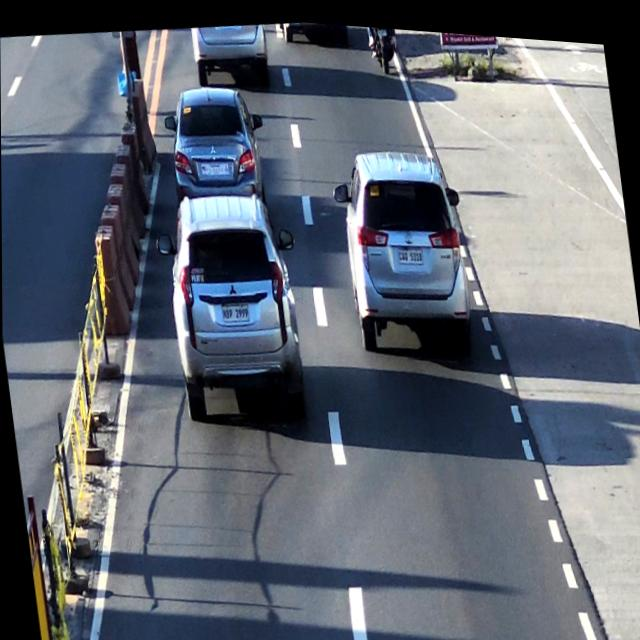Car: (160, 180, 310, 423), (336, 133, 484, 376), (161, 76, 269, 199), (191, 16, 271, 92)
License-Plate: (218, 297, 253, 323), (199, 157, 230, 175), (398, 242, 426, 260)
Motorcycle: (365, 21, 395, 69)
